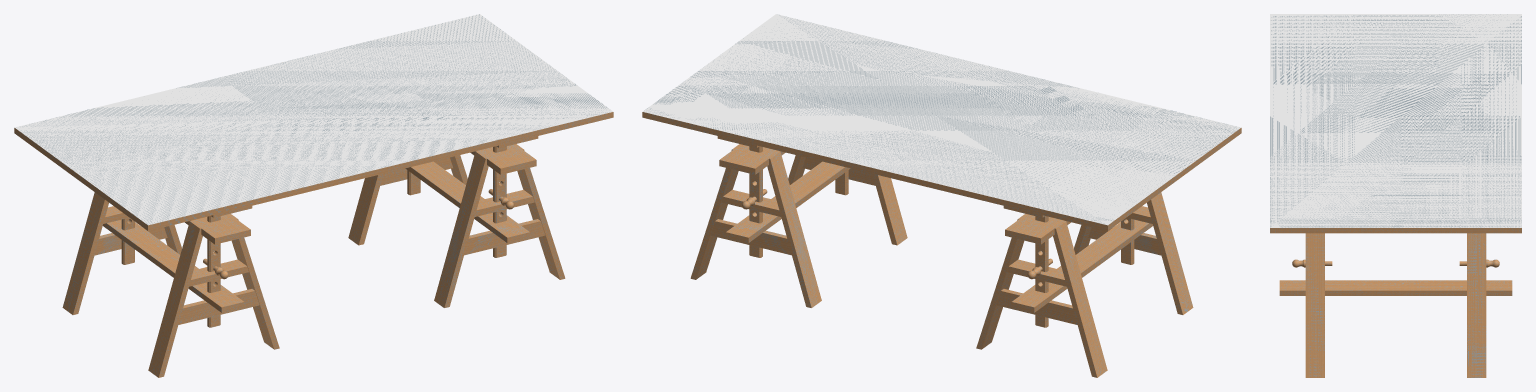
The picture shows the model from 3 angles, left to right: view 1: azimuth 30°, elevation 25°; view 2: azimuth 150°, elevation 25°; view 3: azimuth 270°, elevation 25°; orthographic projection. The views are drawn at different scales.
Parts seen in each view (by area): view 1: top (×2), leg (×6), lower_crosspiece (×2), fat_stretcher (×3), top_crosspiece (×2), upright (×2), thin_stretcher (×2); view 2: top (×2), leg (×6), lower_crosspiece (×2), fat_stretcher (×3), top_crosspiece (×2), upright (×2), thin_stretcher (×2); view 3: top (×2), leg (×2), lower_crosspiece.
Part boxes in pixels (box(x1,y1,x2,y2)): top (×2): box(14, 14, 613, 230); leg (×6): box(62, 144, 565, 377); lower_crosspiece (×2): box(103, 161, 529, 312); fat_stretcher (×3): box(94, 219, 545, 324); top_crosspiece (×2): box(185, 144, 536, 244); upright (×2): box(207, 146, 506, 327); thin_stretcher (×2): box(189, 190, 534, 286); top (×2): box(642, 14, 1241, 230); leg (×6): box(690, 144, 1193, 377); lower_crosspiece (×2): box(726, 161, 1152, 312); fat_stretcher (×3): box(710, 219, 1161, 324); top_crosspiece (×2): box(719, 144, 1070, 244); upright (×2): box(749, 146, 1048, 327); thin_stretcher (×2): box(721, 190, 1066, 286); top (×2): box(1270, 14, 1521, 233); leg (×2): box(1305, 233, 1486, 377); lower_crosspiece: box(1279, 280, 1512, 295).
Bounding box in the file's own units: 78.38 × 38.98 × 27.92.
